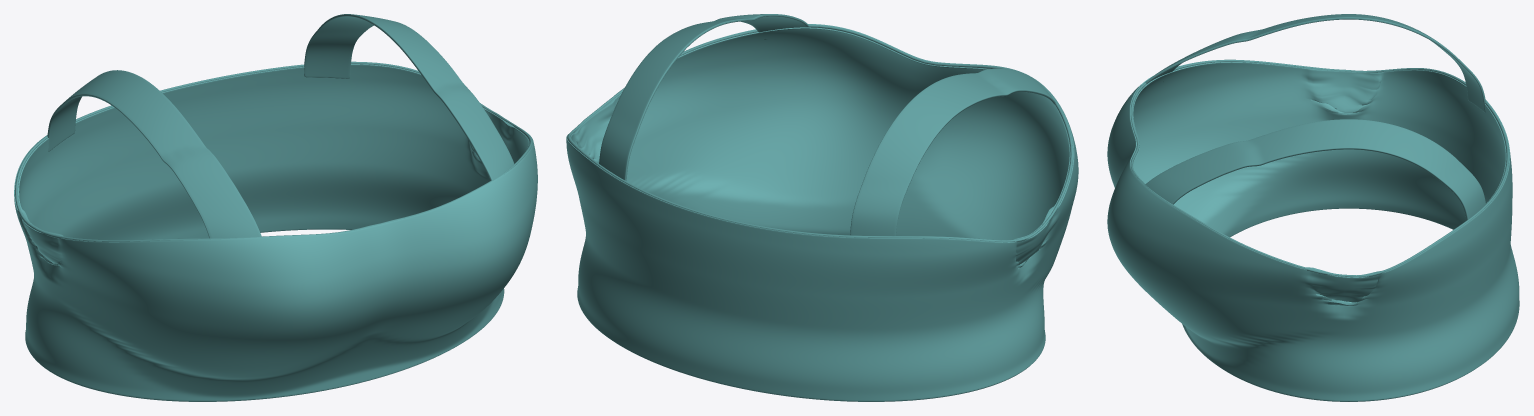
The model's file is Feminine-tank-top.glb.
3 renders of one model, left to right at view 1: azimuth 30°, elevation 25°; view 2: azimuth 150°, elevation 25°; view 3: azimuth 270°, elevation 25°, orthographic. The views are drawn at different scales.
Parts seen in each view (by area): view 1: Clothing / tank body, Clothing / Tank seated shoulder strap -1, Clothing / Tank seated shoulder strap 1, tank body / bound edge.001 export, tank body / bound edge export; view 2: Clothing / tank body, Clothing / Tank seated shoulder strap -1, Clothing / Tank seated shoulder strap 1, tank body / bound edge.001 export; view 3: Clothing / tank body, Clothing / Tank seated shoulder strap 1, Clothing / Tank seated shoulder strap -1, tank body / bound edge.001 export.
Part boxes in pixels (x1,y1,x2,y2): Clothing / tank body: (14,64,537,401); Clothing / Tank seated shoulder strap -1: (47,70,261,238); Clothing / Tank seated shoulder strap 1: (304,14,514,180); tank body / bound edge.001 export: (15,61,532,241); tank body / bound edge export: (41,229,435,401); Clothing / tank body: (566,24,1078,401); Clothing / Tank seated shoulder strap -1: (850,68,1055,236); Clothing / Tank seated shoulder strap 1: (599,14,808,180); tank body / bound edge.001 export: (567,24,1073,242); Clothing / tank body: (1107,60,1519,401); Clothing / Tank seated shoulder strap 1: (1145,119,1485,220); Clothing / Tank seated shoulder strap -1: (1145,14,1485,112); tank body / bound edge.001 export: (1130,59,1509,277).
Bounding box in the file's own units: 0.6442 × 0.3439 × 0.5425.
